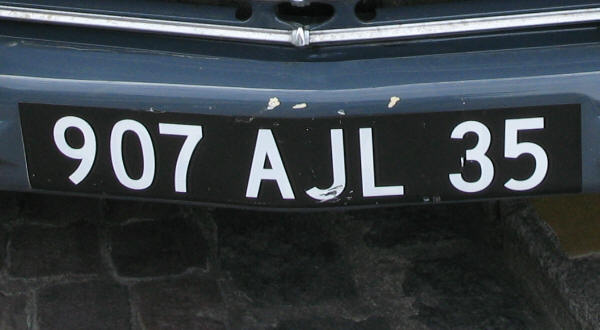license_plate: (14, 101, 583, 208)
